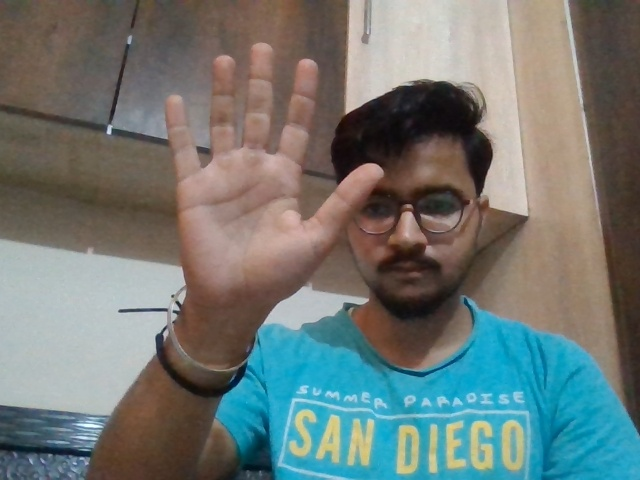hello: (158, 50, 382, 304)
